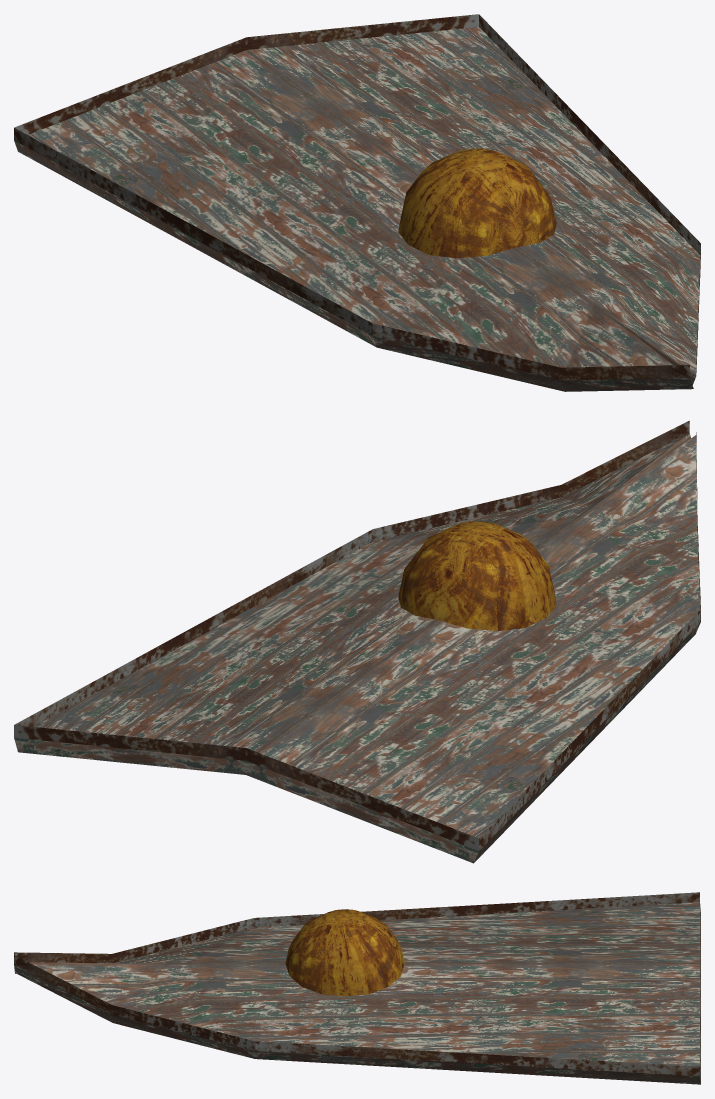
File: Escudo.glb
3 renders of one model, top to bottom at view 1: azimuth 30°, elevation 25°; view 2: azimuth 150°, elevation 25°; view 3: azimuth 270°, elevation 25°, orthographic. The views are drawn at different scales.
Parts seen in each view (by area): view 1: Plane, Borde_Acero, Umbo_Bronce; view 2: Plane, Borde_Acero, Umbo_Bronce; view 3: Plane, Borde_Acero, Umbo_Bronce.
Boxes of the visible parts, box(x1,y1,x2,y2) form: Plane: box(14, 27, 700, 391); Borde_Acero: box(14, 14, 700, 380); Umbo_Bronce: box(398, 148, 556, 258); Plane: box(14, 433, 700, 863); Borde_Acero: box(14, 420, 700, 850); Umbo_Bronce: box(398, 521, 556, 630); Plane: box(14, 902, 700, 1084); Borde_Acero: box(14, 892, 699, 1076); Umbo_Bronce: box(285, 909, 404, 996).
Size of the model in its own units: 3.98 by 0.8977 by 6.62.
3 materials, 3 textured.
